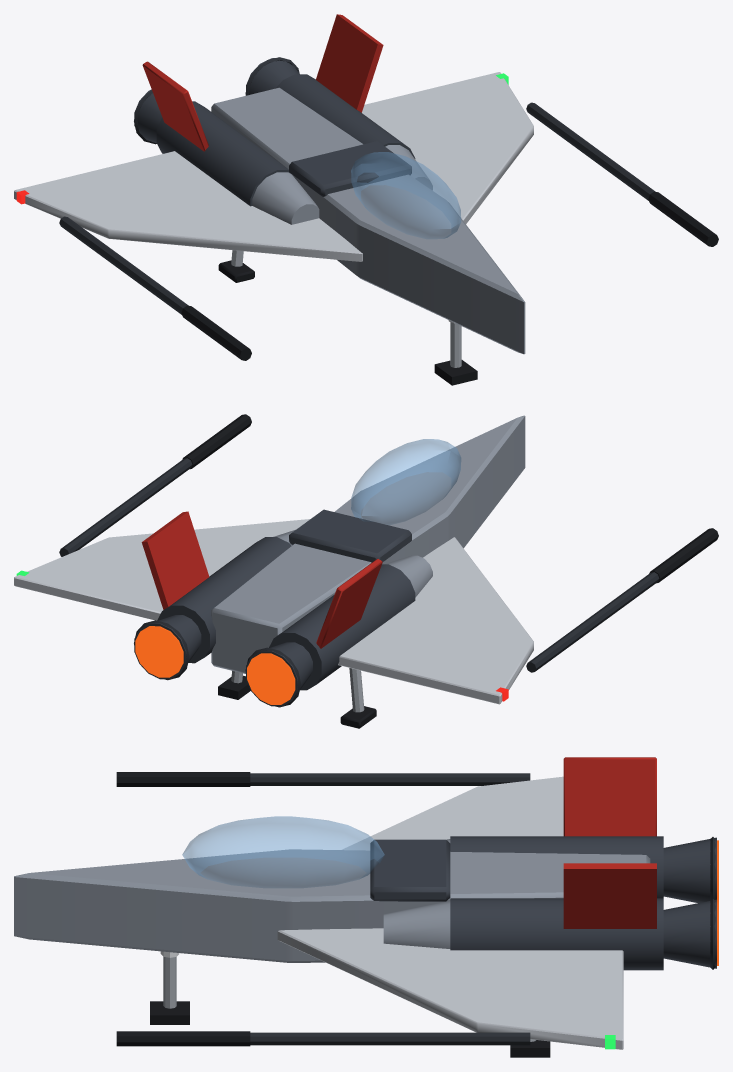
File: craft_interceptor.glb
3 views of the same model, one above another, from view 1: azimuth 30°, elevation 25°; view 2: azimuth 150°, elevation 25°; view 3: azimuth 270°, elevation 25° (orthographic). The views are drawn at different scales.
Visible parts, largest first — view 1: craft_interceptor; view 2: craft_interceptor; view 3: craft_interceptor.
Boxes of the visible parts, <box> form: craft_interceptor: <box>14,14,718,385</box>; craft_interceptor: <box>14,414,718,728</box>; craft_interceptor: <box>14,757,718,1057</box>.
Size of the model in its own units: 4.8 by 1.72 by 5.29.
